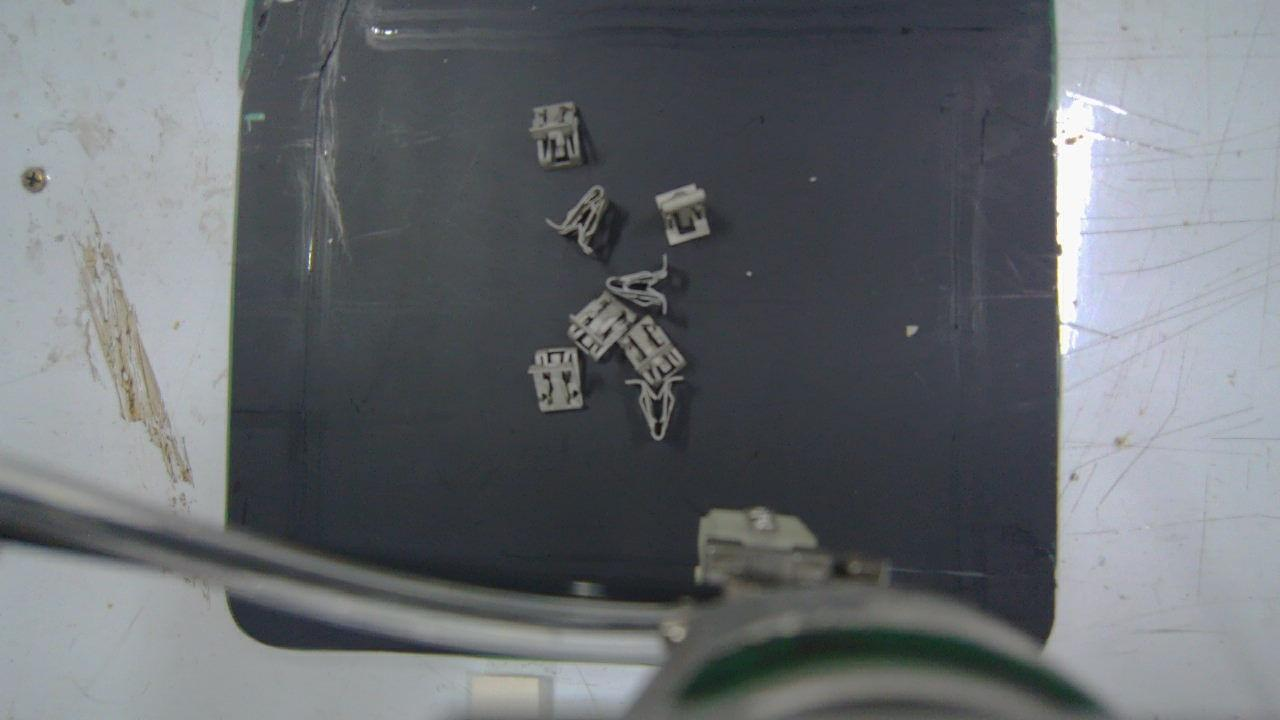ng: (568, 291, 636, 360), (548, 186, 612, 255), (623, 316, 686, 385), (627, 377, 685, 439), (529, 346, 583, 411), (529, 103, 581, 170), (609, 257, 667, 313), (659, 183, 707, 243)
